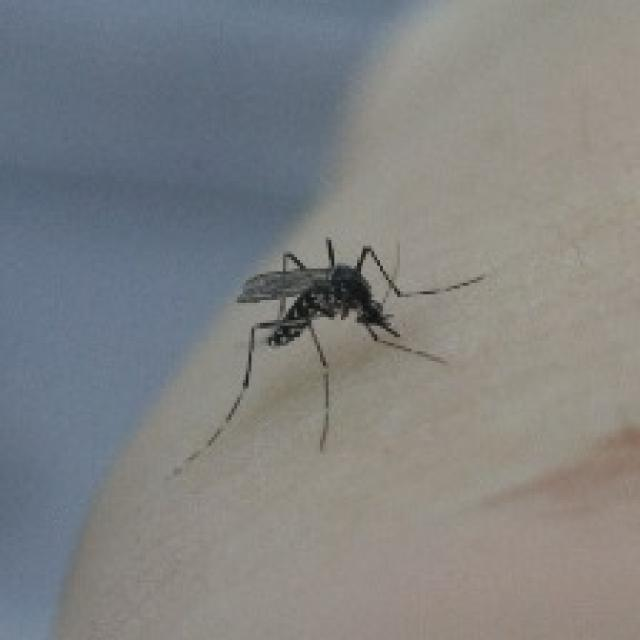aedes: (165, 231, 486, 480)
